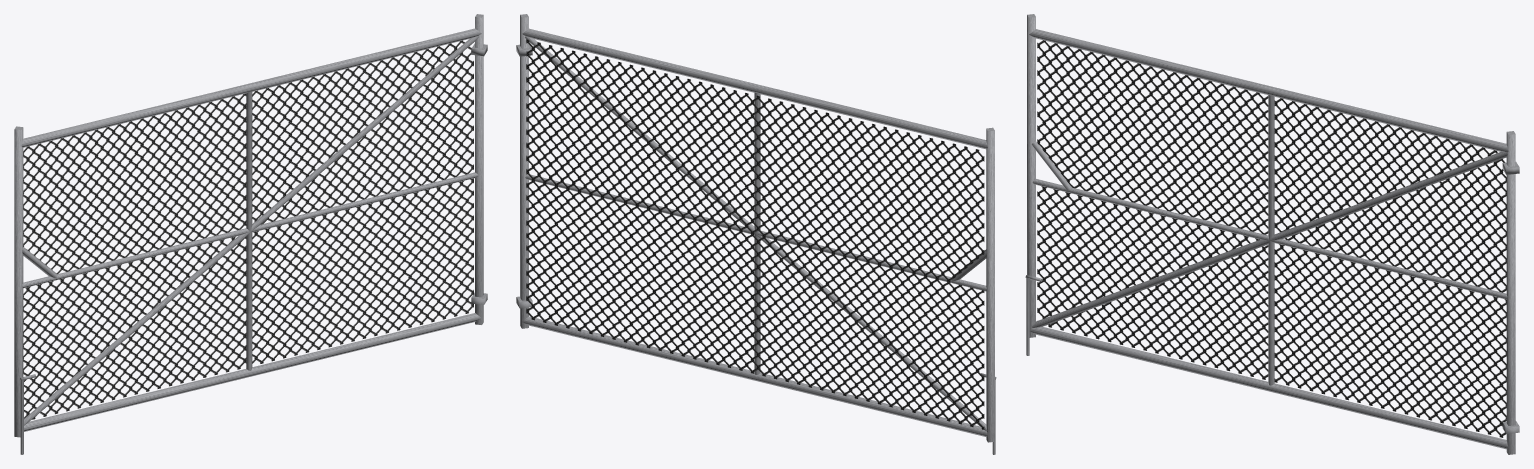
Rendered from fence-tall-gate-3m-LH-cbj_LOD02.gltf.
3 views of the same model, side by side, from view 1: azimuth 30°, elevation 25°; view 2: azimuth 150°, elevation 25°; view 3: azimuth 330°, elevation 25° (orthographic). The views are drawn at different scales.
Parts seen in each view (by area): view 1: gate2; view 2: gate2; view 3: gate2.
Boxes of the visible parts, box(x1,y1,x2,y2) form: gate2: box(14, 14, 487, 454); gate2: box(516, 14, 996, 454); gate2: box(1025, 14, 1519, 454).
Size of what is drawn, in the model's own units: 2.98 by 1.95 by 0.1016.
